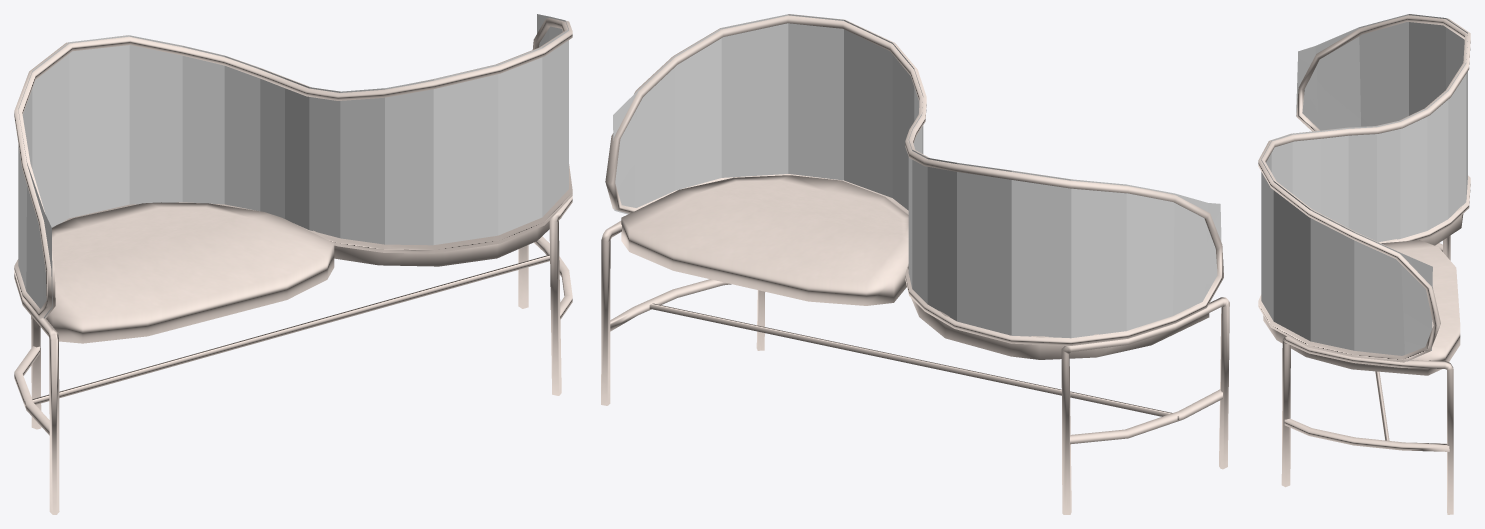
File: chairDouble.fbx
3 views of the same model, side by side, from view 1: azimuth 30°, elevation 25°; view 2: azimuth 150°, elevation 25°; view 3: azimuth 270°, elevation 25° (orthographic). The views are drawn at different scales.
Parts seen in each view (by area): view 1: chairDouble; view 2: chairDouble; view 3: chairDouble.
Part boxes in pixels (box(x1,y1,x2,y2)): chairDouble: box(14, 14, 572, 514); chairDouble: box(601, 14, 1229, 514); chairDouble: box(1258, 14, 1470, 514).
Size of the model in its own units: 4.36 by 2.64 by 1.69.
Materials: 2 (2 with a texture image).
